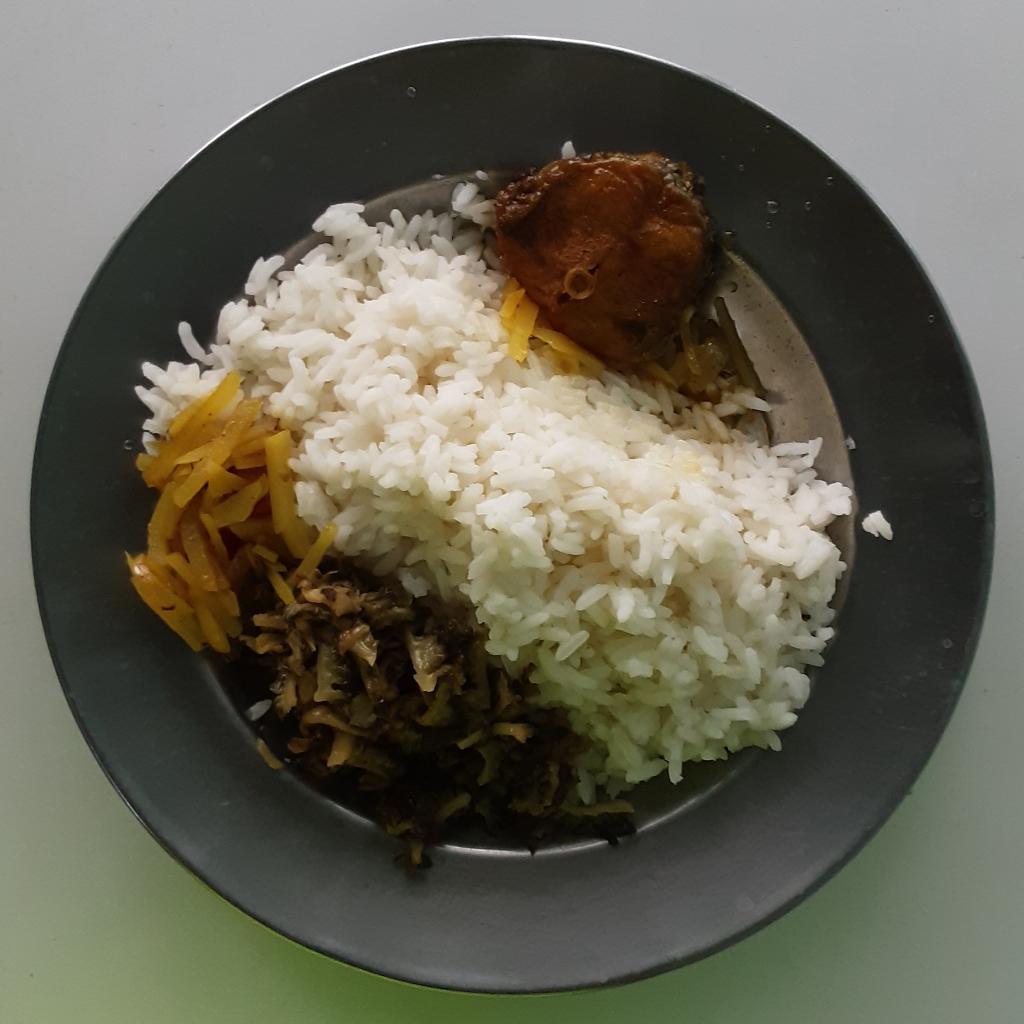fish: (487, 143, 727, 371)
korola-vaji: (232, 544, 636, 868)
potato: (119, 379, 351, 657)
rice: (139, 184, 896, 802)
